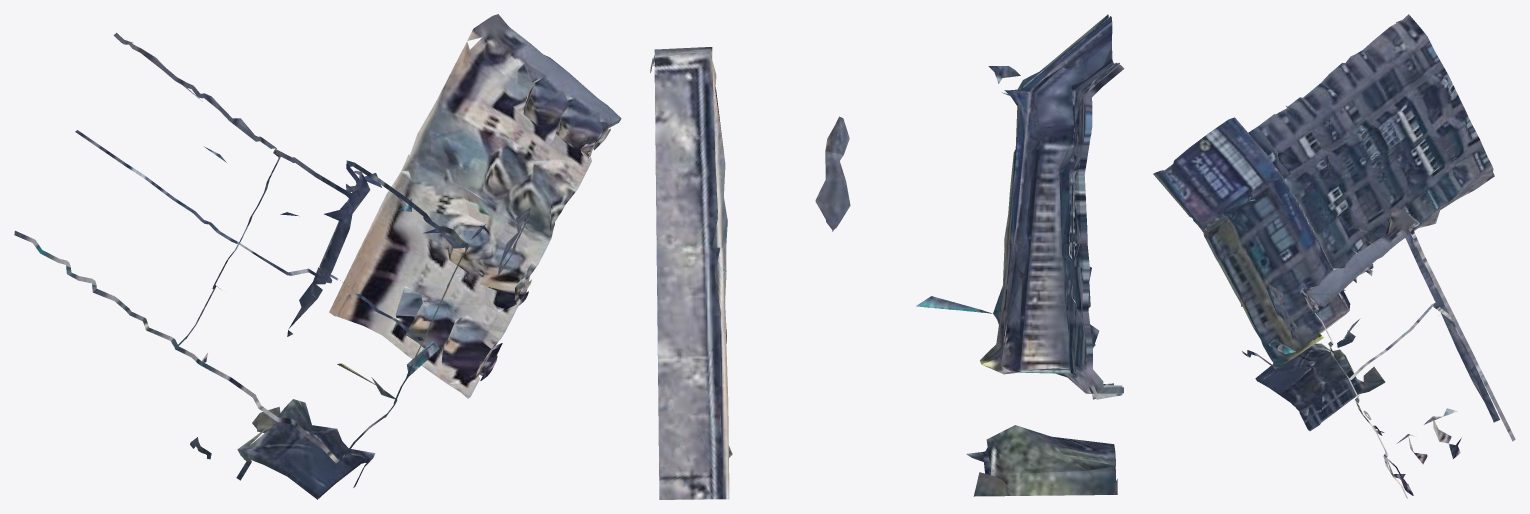
3 views of the same model, side by side, from view 1: azimuth 30°, elevation 25°; view 2: azimuth 150°, elevation 25°; view 3: azimuth 270°, elevation 25° (orthographic). The views are drawn at different scales.
Size of the model in its own units: 52.33 by 44.95 by 42.03.
2 materials, 2 textured.
